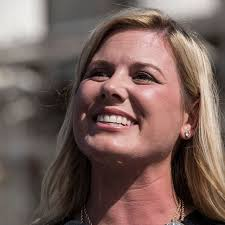white_female: (71, 24, 184, 176)
